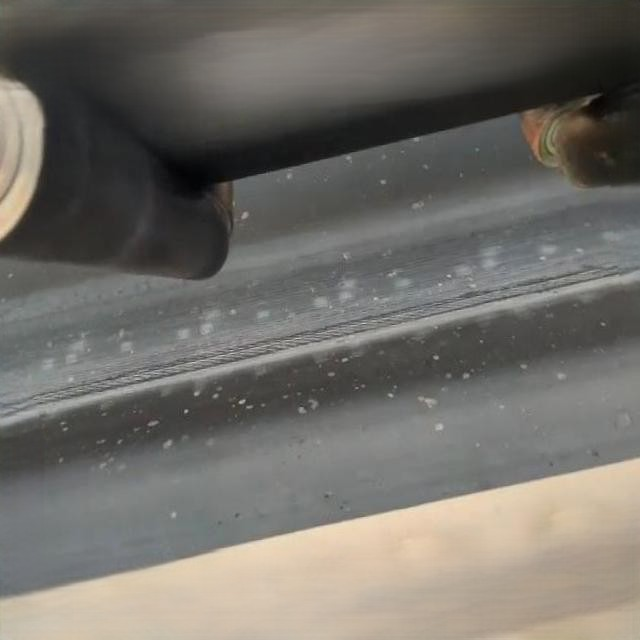Wear: (5, 256, 640, 417)
